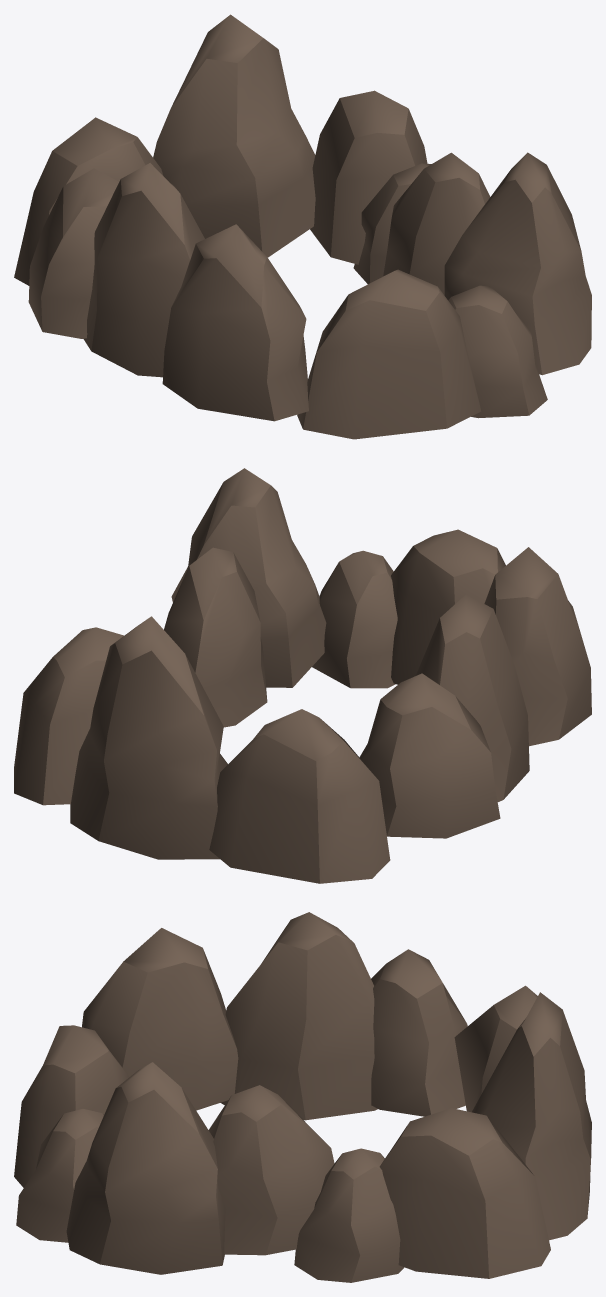
Rendered from MountainRange.fbx.
3 views of the same model, one above another, from view 1: azimuth 30°, elevation 25°; view 2: azimuth 150°, elevation 25°; view 3: azimuth 270°, elevation 25° (orthographic).
Visible parts, largest first — view 1: polySurface6; view 2: polySurface6; view 3: polySurface6.
Boxes of the visible parts, bbox=[...] form: polySurface6: bbox=[14, 14, 591, 439]; polySurface6: bbox=[14, 468, 591, 883]; polySurface6: bbox=[14, 912, 591, 1282].
Size of the model in its own units: 380 by 185 by 444.
